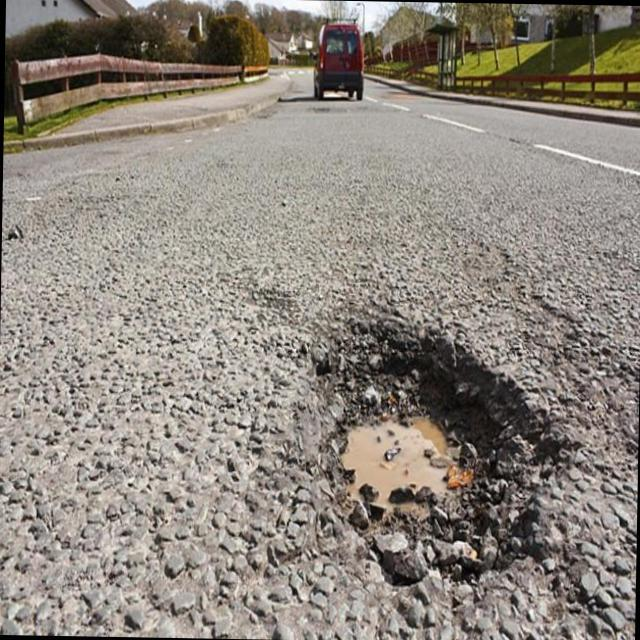Pothole: (317, 313, 548, 633)
